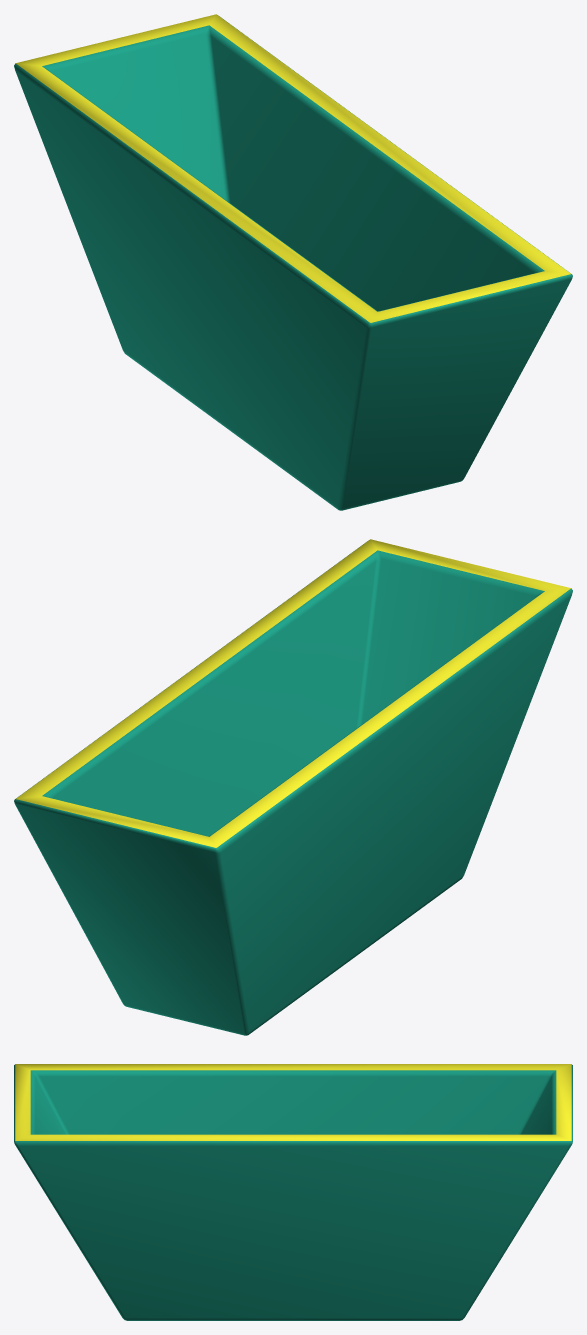
File: SM_Dishes_5.fbx
3 views of the same model, one above another, from view 1: azimuth 30°, elevation 25°; view 2: azimuth 150°, elevation 25°; view 3: azimuth 270°, elevation 25° (orthographic). The views are drawn at different scales.
Parts seen in each view (by area): view 1: SM_Dishes_5; view 2: SM_Dishes_5; view 3: SM_Dishes_5.
Boxes of the visible parts, bbox=[...] form: SM_Dishes_5: bbox=[14, 14, 572, 510]; SM_Dishes_5: bbox=[14, 539, 572, 1035]; SM_Dishes_5: bbox=[14, 1064, 572, 1320].
Size of the model in its own units: 11.44 by 34.45 by 13.31.
1 material, 1 textured.
